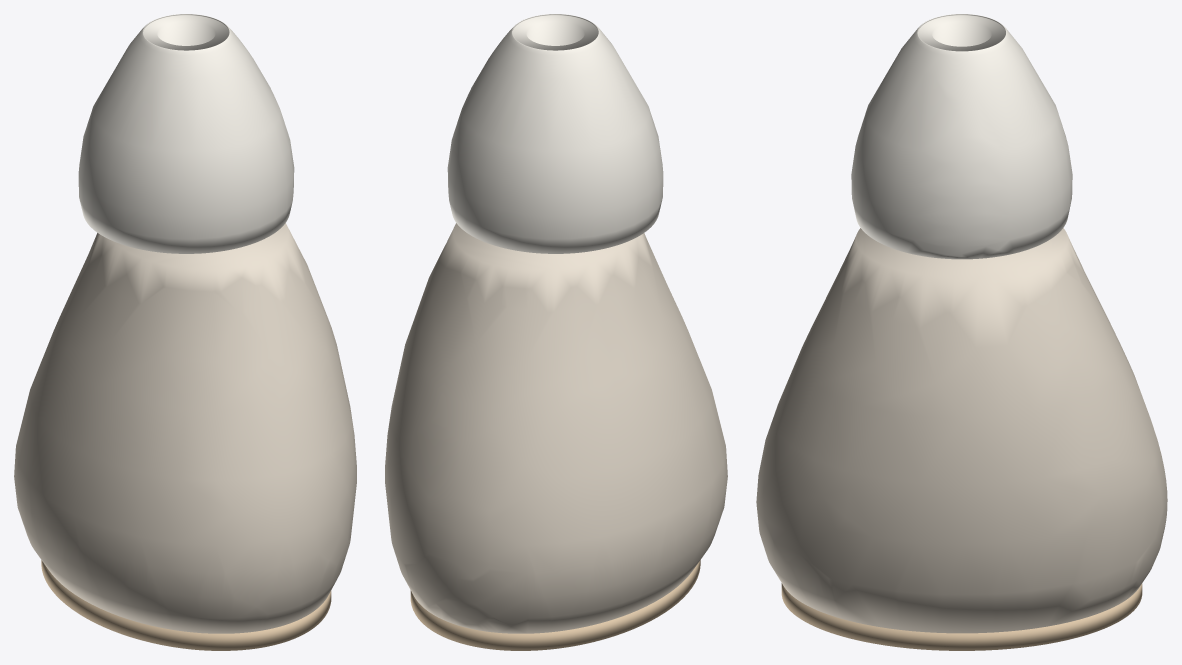
The model's file is hush-in-ear.glb.
3 renders of one model, left to right at view 1: azimuth 30°, elevation 25°; view 2: azimuth 150°, elevation 25°; view 3: azimuth 270°, elevation 25°, orthographic. The views are drawn at different scales.
Parts seen in each view (by area): view 1: Translucent shell, Silicone dome, Champagne faceplate; view 2: Translucent shell, Silicone dome, Champagne faceplate; view 3: Translucent shell, Silicone dome, Champagne faceplate.
Part boxes in pixels (x1,y1,x2,y2): Translucent shell: (14,223,356,633); Silicone dome: (78,14,294,253); Champagne faceplate: (41,560,331,650); Translucent shell: (385,223,727,633); Silicone dome: (447,14,663,253); Champagne faceplate: (410,560,700,650); Translucent shell: (756,228,1167,633); Silicone dome: (851,14,1072,259); Champagne faceplate: (781,583,1142,650).
Bounding box in the file's own units: 0.0148 × 0.0287 × 0.0186.
